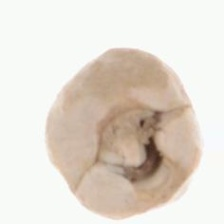L3: (93, 103, 166, 187)
L4: (45, 48, 202, 219)
